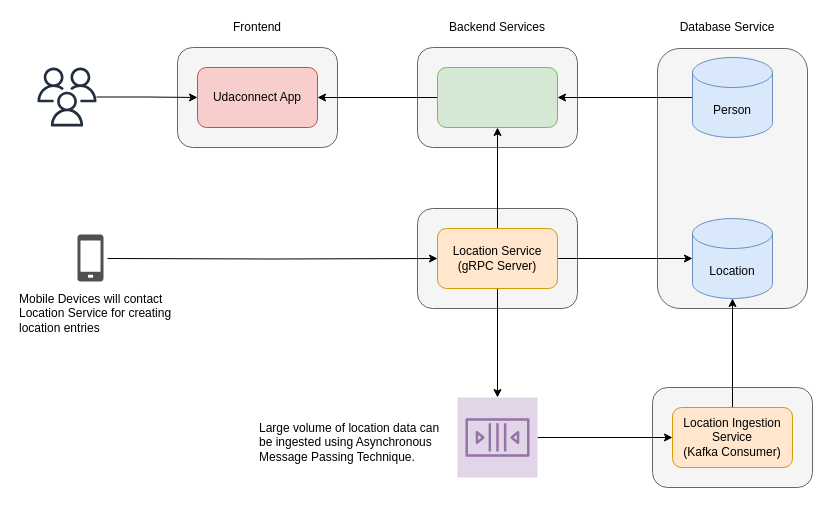
This 830x515 diagram has some shape labels left out. Here are the shapes that lost their labels. From the top down, the box of each, then its label:
(436, 66, 558, 128): Udaconnect API
(456, 396, 538, 478): Kafka Queue
